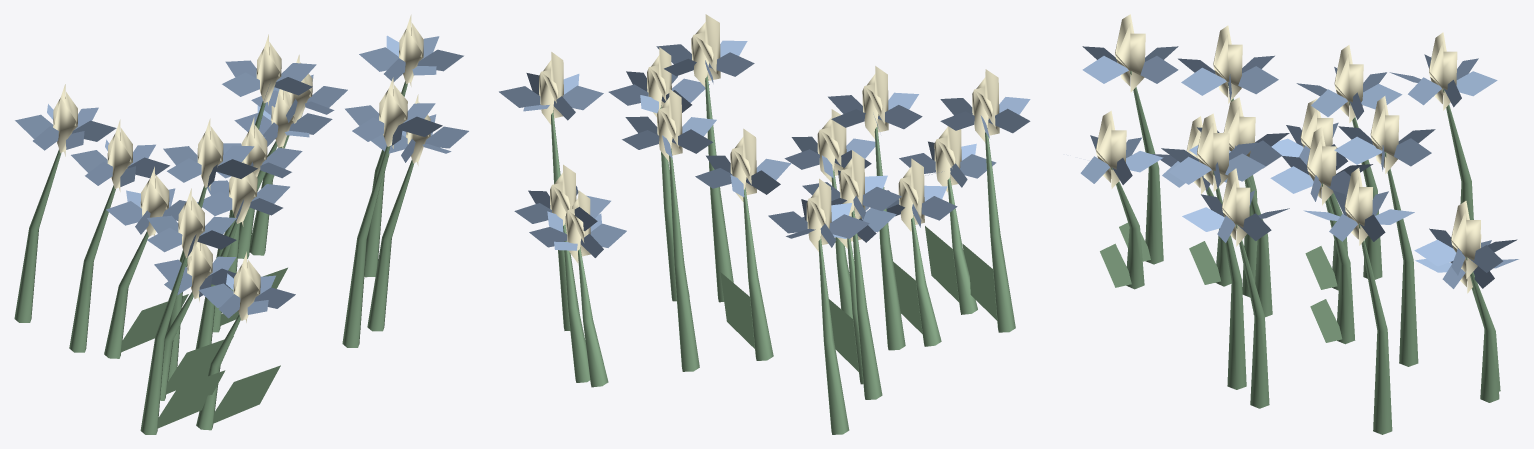
The model's file is flowering_aster.glb.
3 views of the same model, side by side, from view 1: azimuth 30°, elevation 25°; view 2: azimuth 150°, elevation 25°; view 3: azimuth 270°, elevation 25° (orthographic). The views are drawn at different scales.
Parts seen in each view (by area): view 1: flowering_aster; view 2: flowering_aster; view 3: flowering_aster.
Part boxes in pixels (x1=…): flowering_aster: x1=14, y1=14, x2=468, y2=434; flowering_aster: x1=499, y1=14, x2=1030, y2=434; flowering_aster: x1=1080, y1=14, x2=1518, y2=434.
Size of the model in its own units: 1.31 by 0.8211 by 1.18.
